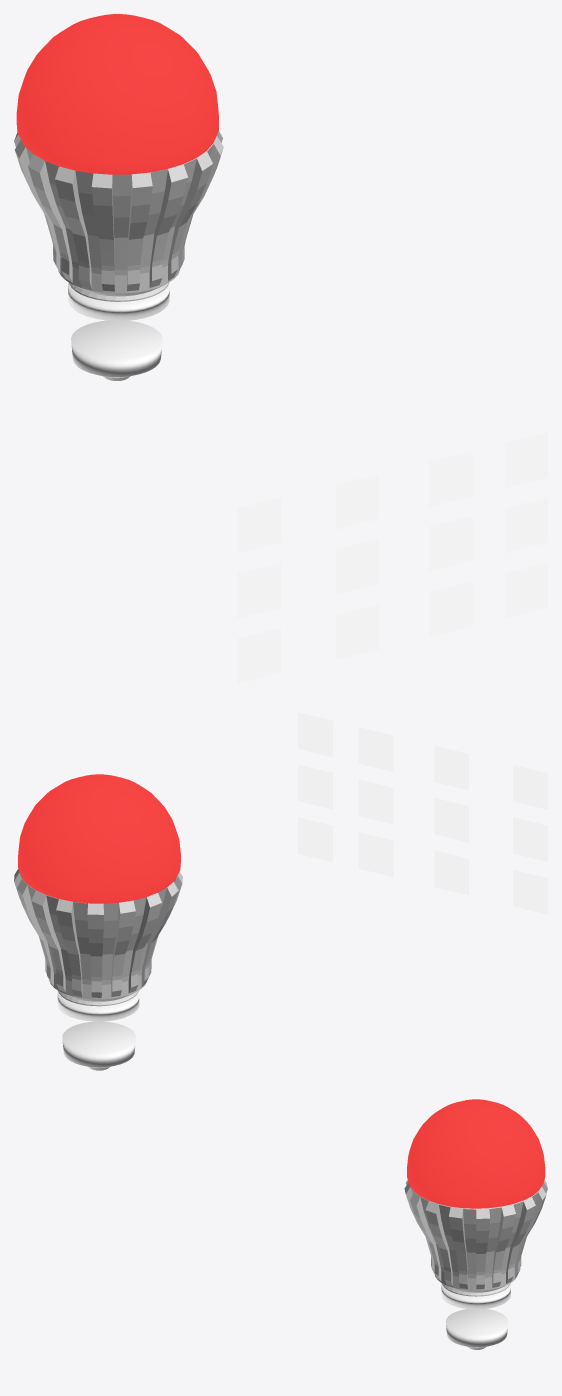
The model's file is KORTE_red.glb.
3 renders of one model, top to bottom at view 1: azimuth 30°, elevation 25°; view 2: azimuth 150°, elevation 25°; view 3: azimuth 270°, elevation 25°, orthographic. The views are drawn at different scales.
Visible parts, largest first — view 1: Sphere, Cylinder, Cylinder.003, Cylinder.002, Plane.004, Plane.013, Plane.011, Plane.010, Plane.009, Plane.008, Plane.007, Plane.006 (+5 smaller); view 2: Sphere, Cylinder, Cylinder.003, Cylinder.002, Plane.008, Plane.011, Plane.003, Plane.013, Plane.012, Plane.010, Plane.009, Plane.004 (+5 smaller); view 3: Sphere, Cylinder, Cylinder.003, Cylinder.002, Cylinder.001.
Boxes of the visible parts, x1,y1,x2,y2 form: Sphere: (16,14,218,174); Cylinder: (14,130,223,291); Cylinder.003: (71,320,162,377); Cylinder.002: (68,282,169,320); Plane.004: (335,473,378,529); Plane.013: (237,628,280,683); Plane.011: (429,581,472,636); Plane.010: (504,563,547,618); Plane.009: (504,497,547,553); Plane.008: (429,516,472,571); Plane.007: (335,538,378,594); Plane.006: (237,562,280,618); Sphere: (18,774,180,903); Cylinder: (14,869,182,997); Cylinder.003: (62,1021,135,1067); Cylinder.002: (57,990,139,1021); Plane.008: (358,779,393,824); Plane.011: (358,832,393,876); Plane.003: (358,727,393,771); Plane.013: (513,869,547,914); Plane.012: (434,850,468,895); Plane.010: (298,817,332,862); Plane.009: (298,764,332,809); Plane.004: (434,745,468,790); Sphere: (407,1099,545,1212); Cylinder: (404,1180,547,1289); Cylinder.003: (445,1309,508,1347); Cylinder.002: (441,1283,510,1309); Cylinder.001: (435,1275,517,1296).
Size of what is drawn, in the model's own units: 14.32 by 15.83 by 31.21.
